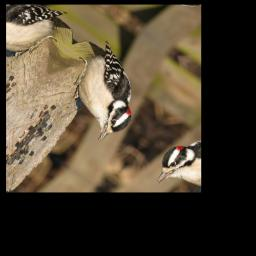Woodpecker: (41, 33, 164, 149)
